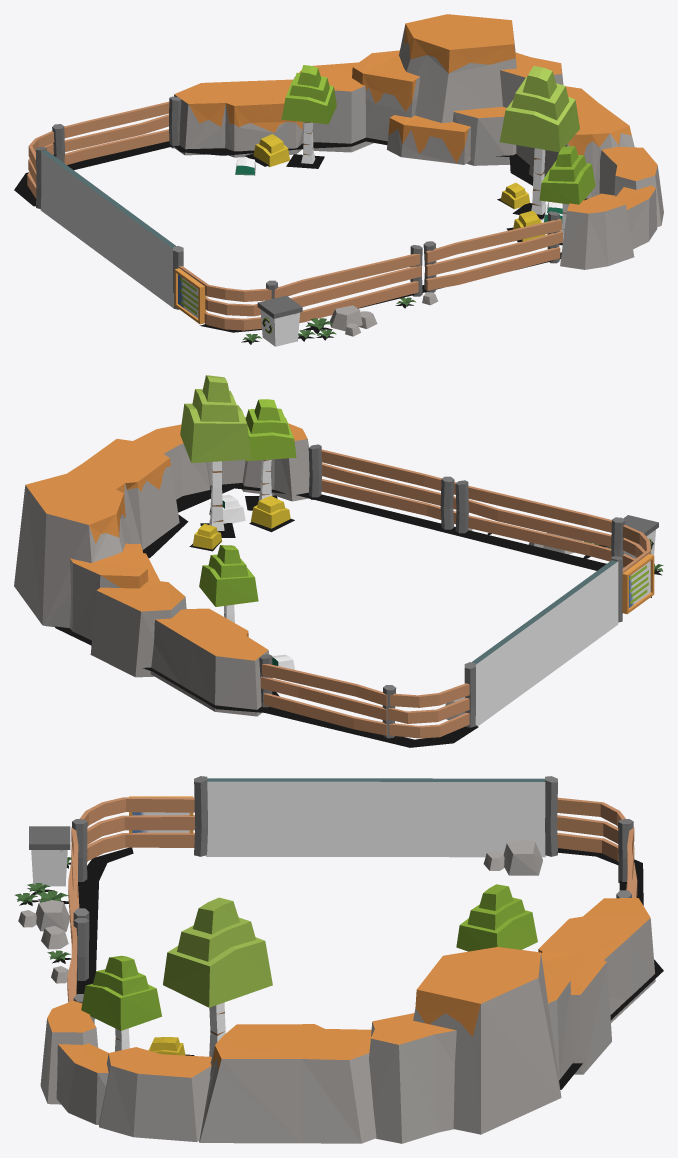
File: xweilan_1002_1.FBX
The picture shows the model from 3 angles, top to bottom: view 1: azimuth 30°, elevation 25°; view 2: azimuth 150°, elevation 25°; view 3: azimuth 270°, elevation 25°; orthographic projection. The views are drawn at different scales.
Visible parts, largest first — view 1: xweilan_1002_1; view 2: xweilan_1002_1; view 3: xweilan_1002_1.
Boxes of the visible parts, x1,y1,x2,y2 form: xweilan_1002_1: (14, 14, 663, 346); xweilan_1002_1: (14, 375, 663, 747); xweilan_1002_1: (14, 776, 663, 1143).
Size of the model in its own units: 4795 by 1437 by 4437.
